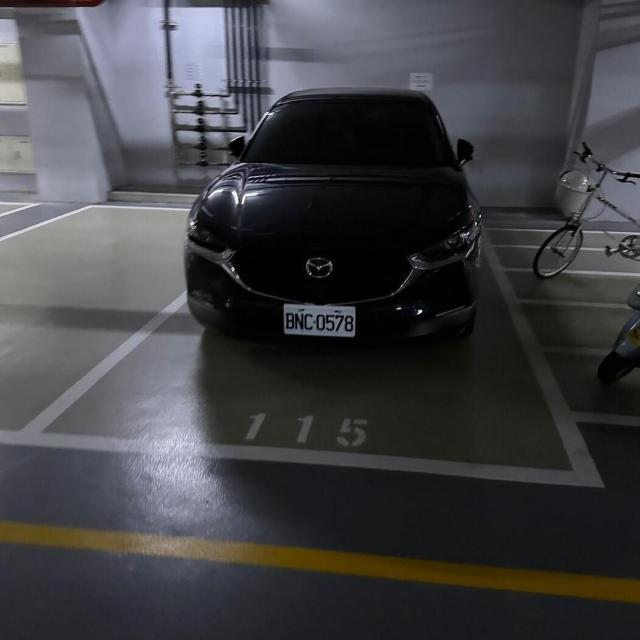W: (280, 300, 362, 341)
